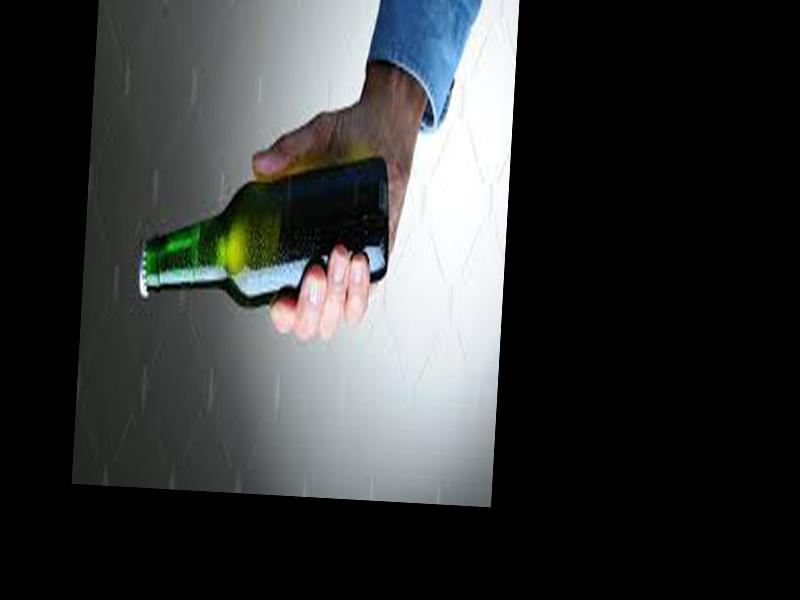Beer: (139, 141, 392, 323)
